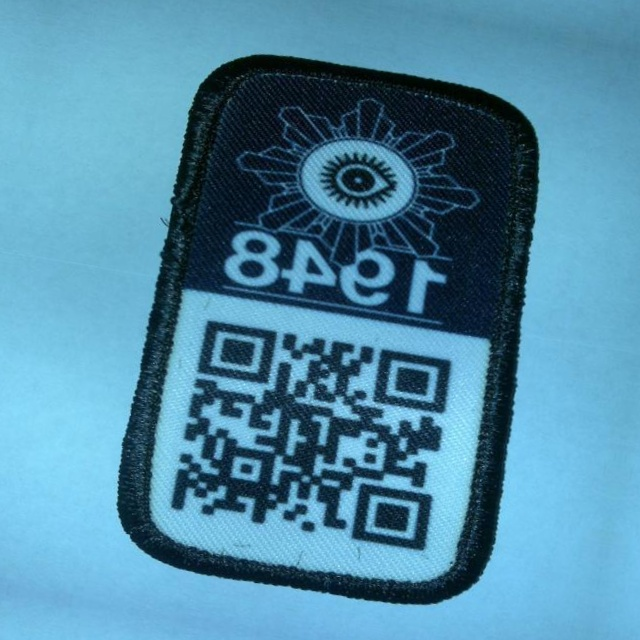qr-code: (173, 318, 456, 552)
